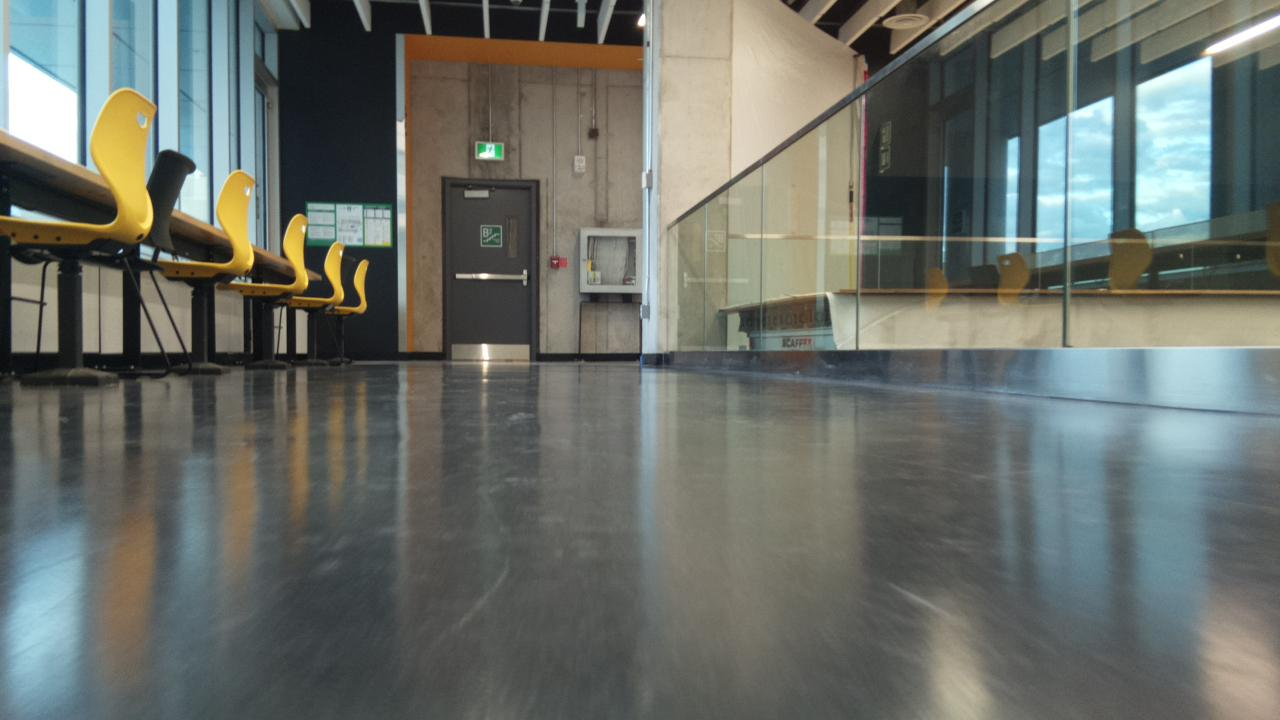door: (450, 187, 529, 360)
sign: (306, 203, 391, 246), (475, 142, 503, 159), (481, 225, 501, 246)
